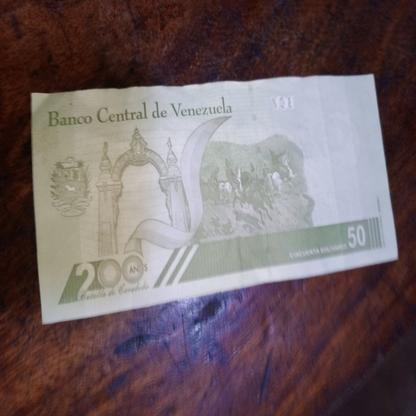fifty-back-vef: (32, 73, 398, 326)
